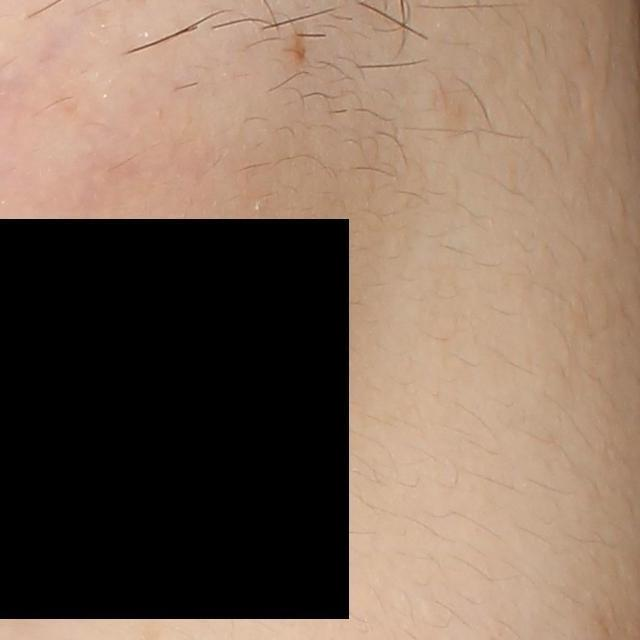melasma: (289, 25, 310, 68)
